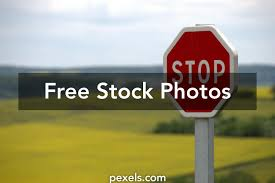stop sign: (162, 26, 237, 118)
